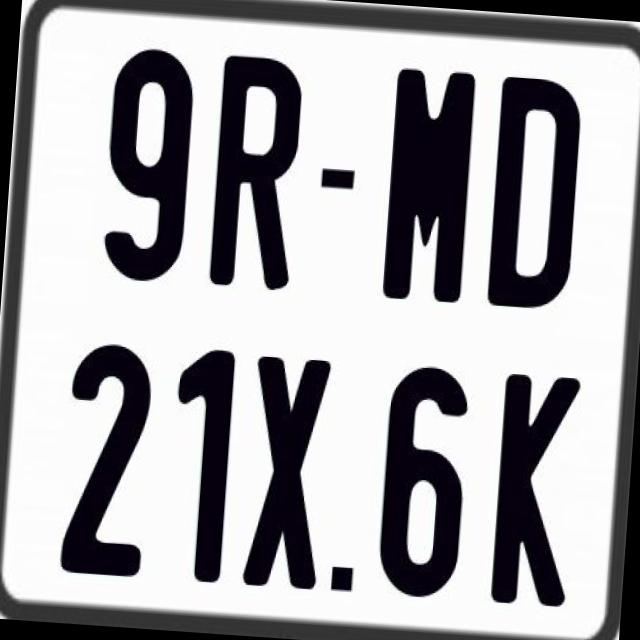1: (163, 342, 237, 580)
2: (58, 337, 157, 576)
6: (375, 365, 475, 607)
9: (97, 42, 196, 282)
D: (484, 76, 580, 316)
K: (486, 371, 584, 610)
M: (380, 64, 479, 304)
R: (205, 50, 302, 292)
X: (242, 354, 338, 596)
